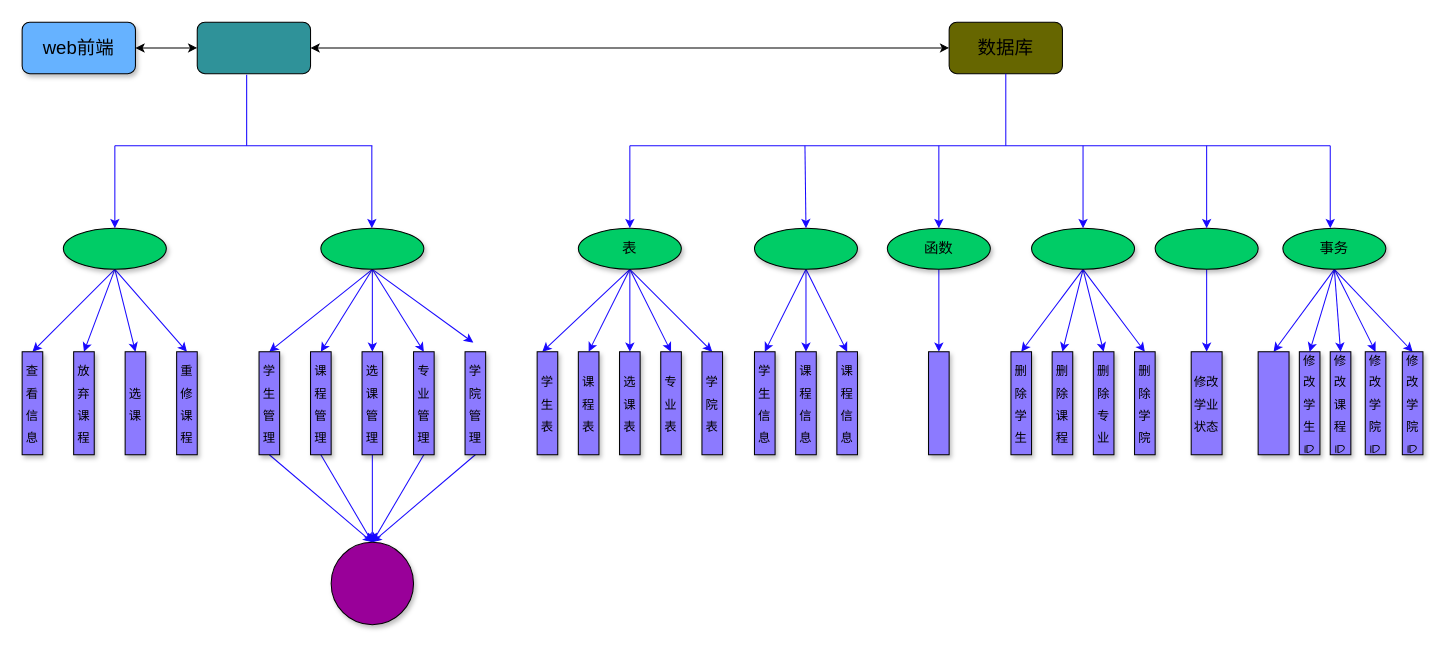
Some shapes in this 1447 by 650 pixel diagram are drawn without their labels. Each missing label, with the centre of its shape:
增删改查: the point at 373,584
存储过程: the point at 1083,250
学生操作: the point at 115,250
放弃课程、重修等: the point at 1274,404
服务端: the point at 253,47
管理员操作: the point at 373,250
视图: the point at 806,250
触发器: the point at 1207,250
计算GPA: the point at 939,404
